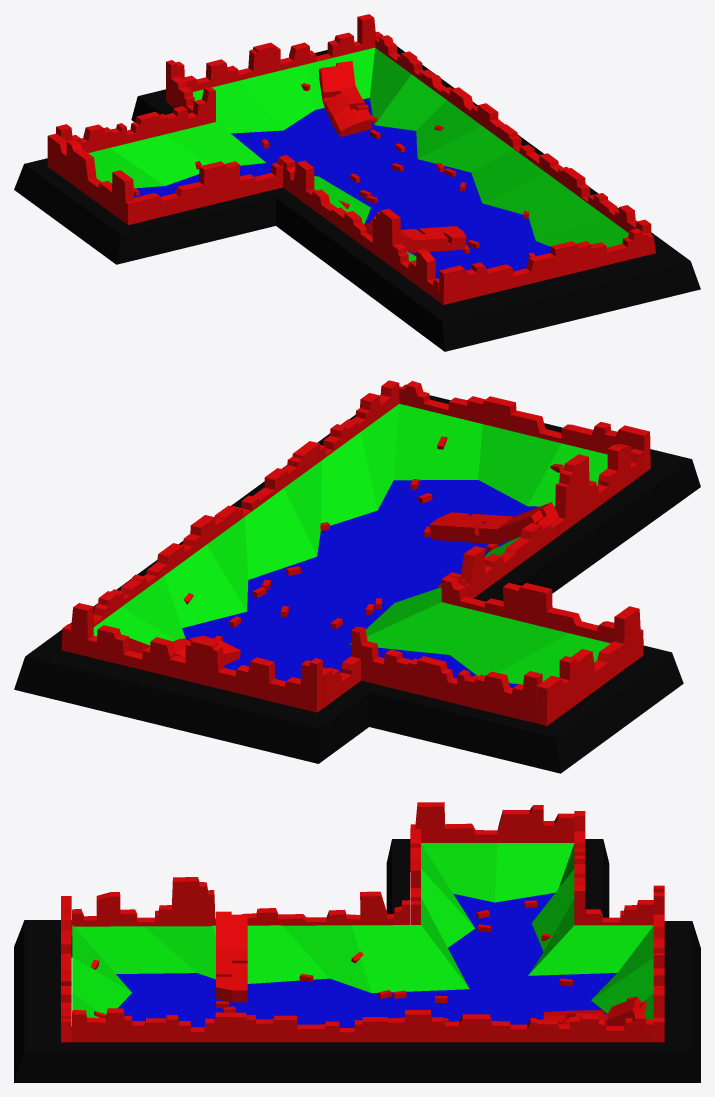
Rendered from Crematorium_Destroyed.fbx.
3 renders of one model, top to bottom at view 1: azimuth 30°, elevation 25°; view 2: azimuth 150°, elevation 25°; view 3: azimuth 270°, elevation 25°, orthographic. The views are drawn at different scales.
Parts seen in each view (by area): view 1: mesh_Crematorium_Destroyed; view 2: mesh_Crematorium_Destroyed; view 3: mesh_Crematorium_Destroyed.
Boxes of the visible parts, box(x1,y1,x2,y2) form: mesh_Crematorium_Destroyed: box(14, 14, 700, 351); mesh_Crematorium_Destroyed: box(14, 380, 700, 773); mesh_Crematorium_Destroyed: box(14, 802, 700, 1082).
Bounding box in the file's own units: 1172 × 212 × 1553.
